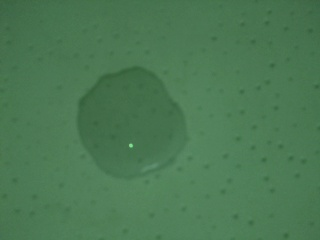Water_detected: (81, 79, 175, 169)
